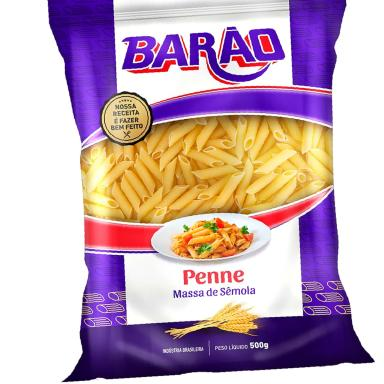pasta package: (49, 0, 371, 381)
